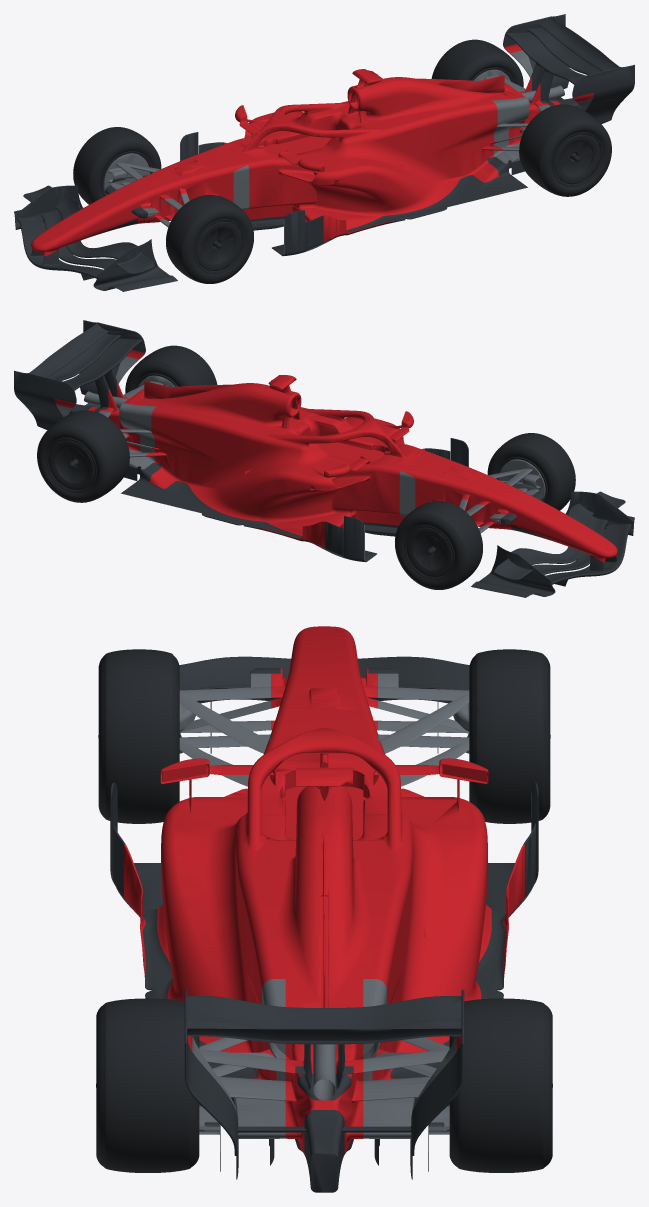
The model's file is qvist-2026-web.glb.
The picture shows the model from 3 angles, top to bottom: view 1: azimuth 30°, elevation 25°; view 2: azimuth 150°, elevation 25°; view 3: azimuth 270°, elevation 25°; orthographic projection. The views are drawn at different scales.
Parts seen in each view (by area): view 1: left-sidepod, chassis, front-wing, rear-wing, engine-cover, rear-left-wheel, front-left-wheel, floor, front-right-wheel, halo, rear-right-wheel, rear-suspension (+3 smaller); view 2: right-sidepod, chassis, front-wing, rear-wing, engine-cover, rear-right-wheel, front-right-wheel, floor, front-left-wheel, halo, rear-left-wheel, rear-suspension (+3 smaller); view 3: engine-cover, chassis, rear-wing, left-sidepod, right-sidepod, rear-left-wheel, rear-right-wheel, front-left-wheel, front-right-wheel, rear-suspension, front-suspension, floor (+4 smaller).
Part boxes in pixels (x1,y1,x2,y2): left-sidepod: (281,106,503,242); chassis: (31,76,560,256); front-wing: (14,185,177,291); rear-wing: (503,14,634,123); engine-cover: (335,44,593,139); rear-left-wheel: (519,104,611,196); front-left-wheel: (166,194,253,283); floor: (180,132,527,256); front-right-wheel: (73,127,161,204); halo: (245,103,375,148); rear-right-wheel: (431,39,523,87); rear-suspension: (473,50,592,163); right-sidepod: (145,412,367,548); chassis: (88,382,617,562); front-wing: (471,491,634,597); rear-wing: (14,320,145,429); engine-cover: (55,350,313,445); rear-right-wheel: (37,410,129,502); front-right-wheel: (395,501,482,589); floor: (121,438,468,562); front-left-wheel: (487,433,575,510); halo: (273,409,403,454); rear-left-wheel: (125,345,217,393); rear-suspension: (56,356,175,469); engine-cover: (187,767,461,1050); chassis: (234,626,414,1154); rear-wing: (184,989,464,1192); left-sidepod: (124,765,264,1079); right-sidepod: (384,765,524,1079); rear-left-wheel: (96,998,199,1172); rear-right-wheel: (449,998,552,1172); front-left-wheel: (98,649,179,823); front-right-wheel: (469,649,550,823); rear-suspension: (192,979,456,1152); front-suspension: (117,673,531,817); floor: (110,782,538,1179).
Size of the model in its own units: 5394 by 1099 by 1882.
